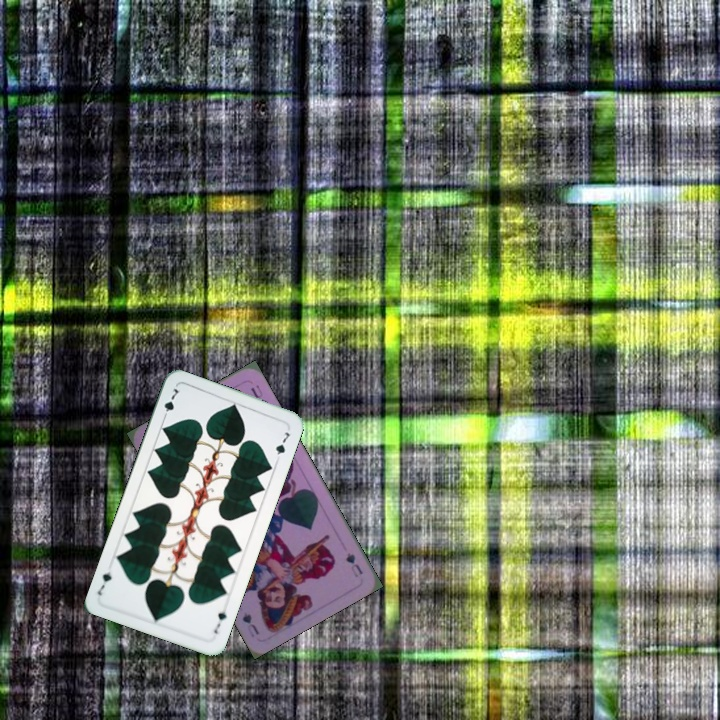G7: (159, 384, 183, 422), (210, 607, 229, 637)
GU: (342, 548, 365, 580)
